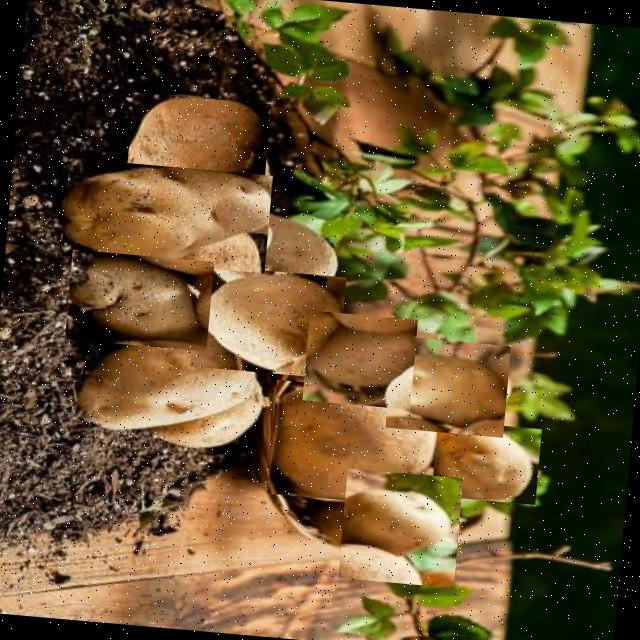Damaged potato: (60, 156, 272, 272), (64, 248, 214, 350)
Potato: (267, 378, 444, 506), (75, 328, 264, 444), (124, 90, 270, 216), (190, 263, 346, 378), (338, 467, 463, 587), (385, 334, 511, 436), (302, 309, 418, 408), (432, 418, 542, 504)
